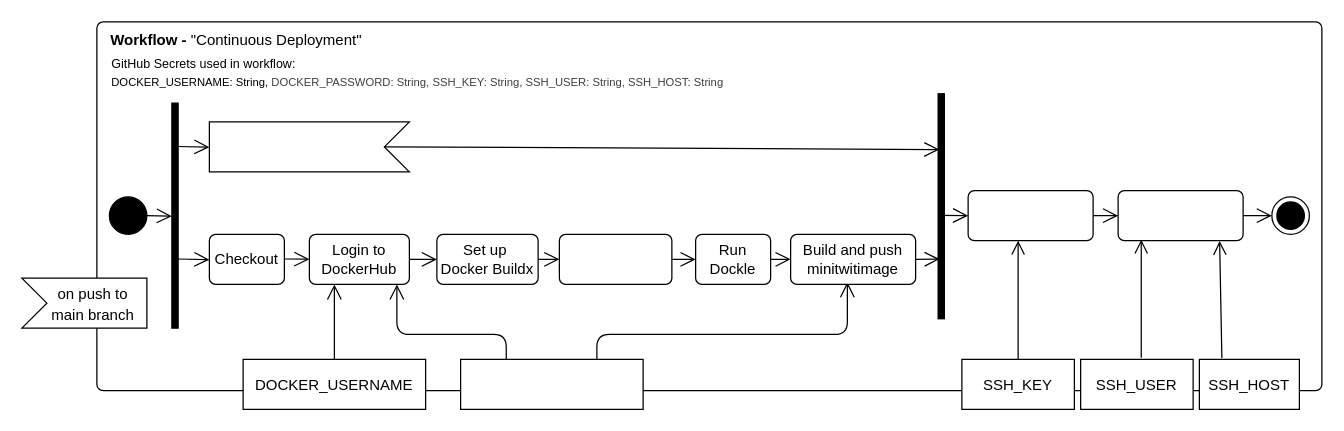
Image size: 1344x431. Some labels were removed from this diagram. The box of each missing label's shape, as (x1, y1, x2, y2) in pixels:
Build Docker image locally: (558, 233, 672, 284)
Configure SSH: (967, 189, 1093, 241)
Deploy to server: (1117, 189, 1243, 241)
DOCKER_PASSWORD: (459, 358, 643, 409)
Trigger "Tests" workflow: (208, 121, 409, 172)
